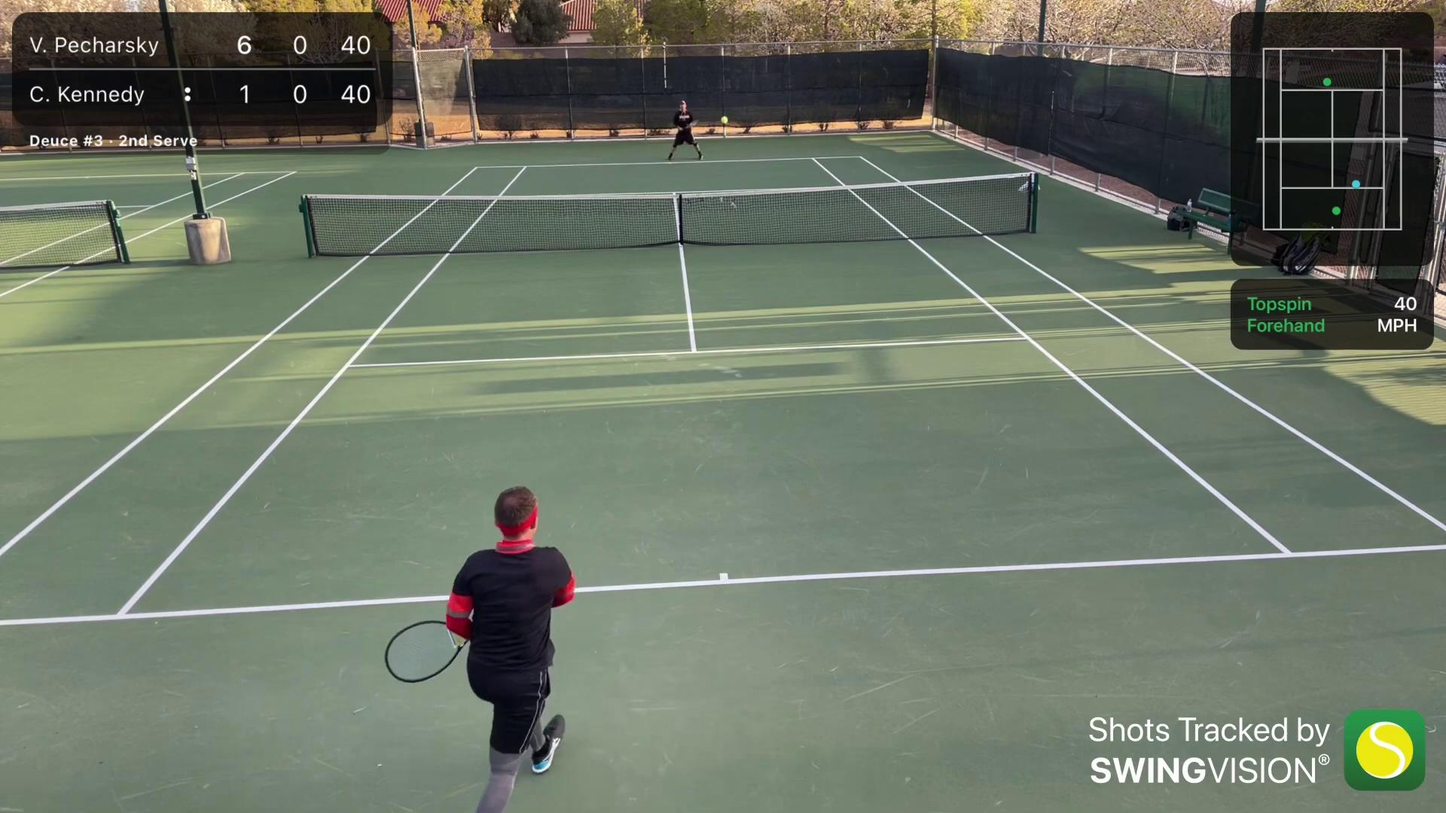ball: (719, 115, 729, 123)
